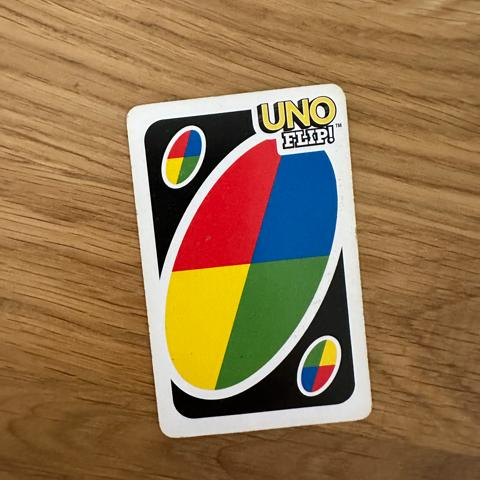wild: (298, 333, 344, 401), (161, 127, 206, 190)
